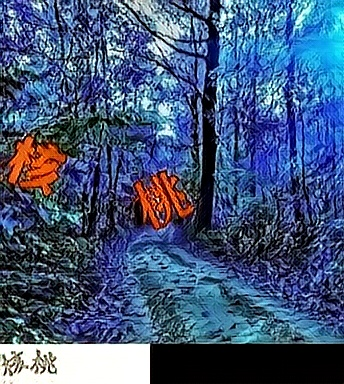BACB: (4, 131, 67, 198)
CCD2: (131, 164, 194, 231)
